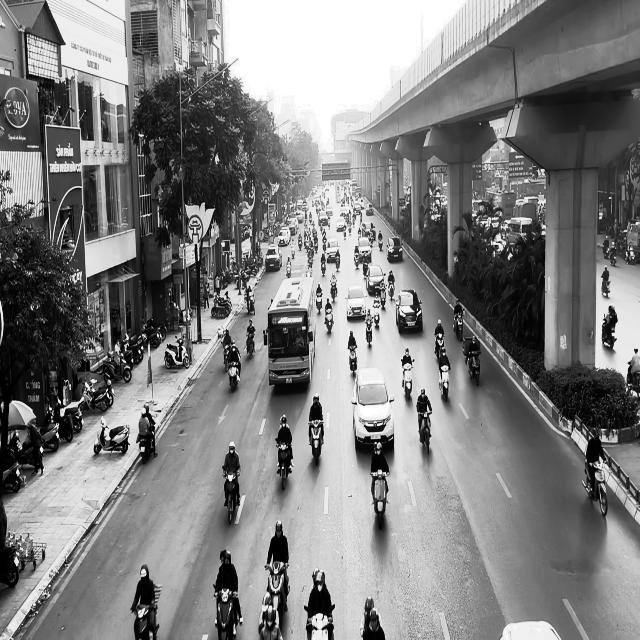bus: (266, 276, 316, 387)
car: (350, 366, 394, 450), (395, 289, 423, 333), (345, 284, 366, 319), (365, 265, 385, 294), (386, 236, 403, 262), (265, 246, 282, 272)
motorbike: (581, 456, 608, 516), (264, 561, 289, 619), (213, 584, 239, 639), (93, 416, 130, 454), (303, 604, 335, 640), (370, 469, 389, 529), (222, 465, 240, 525), (275, 437, 293, 490), (164, 336, 190, 368), (136, 423, 157, 462), (308, 418, 324, 466), (416, 409, 432, 453), (465, 348, 481, 386), (625, 360, 640, 398), (601, 314, 617, 349), (401, 358, 414, 401), (226, 354, 241, 391), (438, 362, 450, 401), (452, 308, 463, 340), (434, 333, 445, 362), (348, 344, 358, 374), (221, 340, 231, 370), (245, 331, 255, 359), (324, 307, 333, 333), (365, 320, 373, 348), (601, 274, 610, 298), (373, 300, 380, 326), (330, 280, 337, 302), (316, 292, 322, 314)
